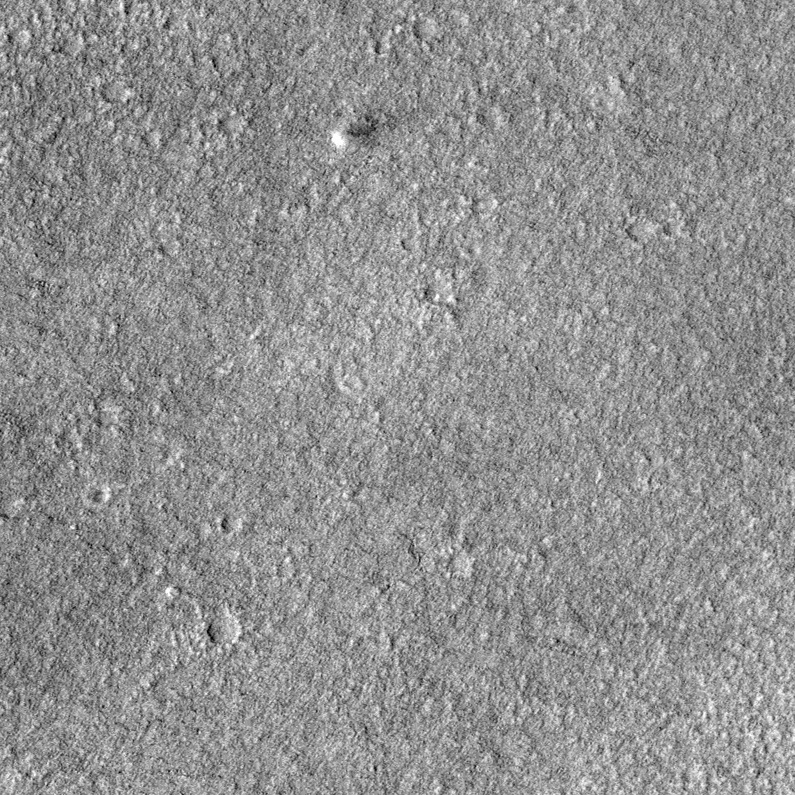dust_devil: (329, 111, 382, 151)
